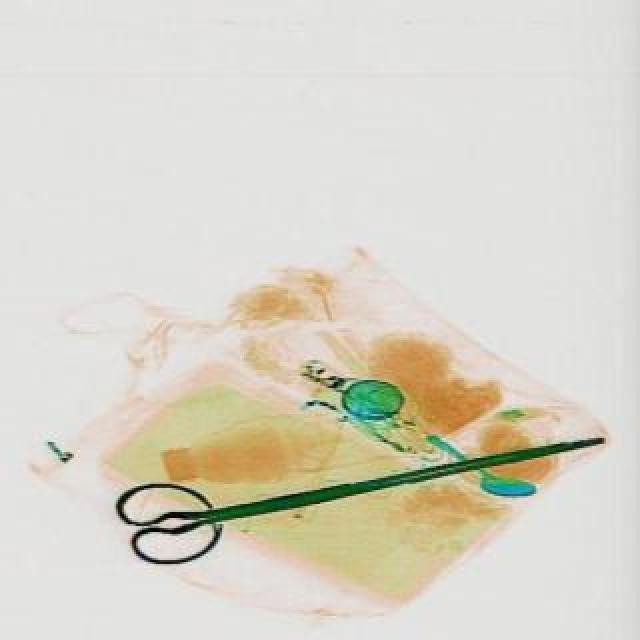pliers: (118, 400, 618, 570)
